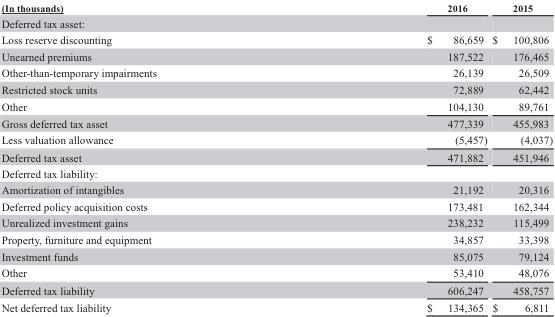table: (0, 0, 552, 314)
table column: (0, 0, 291, 314), (291, 0, 489, 314), (489, 0, 552, 314)
table column header: (0, 0, 552, 15)
table projected row header: (0, 15, 552, 31), (0, 165, 552, 181)
table row: (0, 47, 552, 64), (0, 80, 552, 97), (0, 97, 552, 114), (0, 114, 552, 131), (0, 131, 552, 148), (0, 148, 552, 165), (0, 197, 552, 214), (0, 230, 552, 247), (0, 247, 552, 264), (0, 264, 552, 281), (0, 281, 552, 298), (0, 15, 552, 31), (0, 31, 552, 47), (0, 64, 552, 80), (0, 165, 552, 181), (0, 181, 552, 197), (0, 214, 552, 230), (0, 298, 552, 314), (0, 0, 552, 15)
